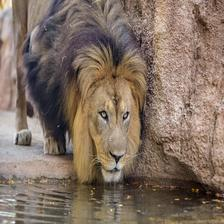Lion: (13, 0, 150, 192)
